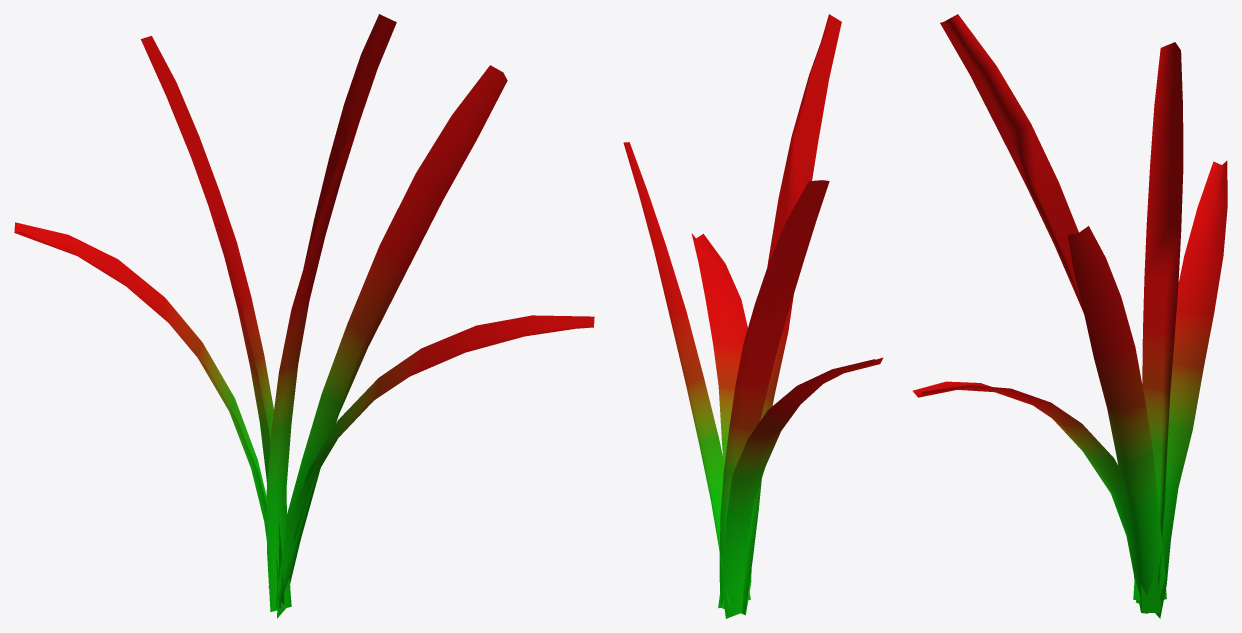
File: Var2_LOD0.fbx
3 renders of one model, left to right at view 1: azimuth 30°, elevation 25°; view 2: azimuth 150°, elevation 25°; view 3: azimuth 270°, elevation 25°, orthographic. The views are drawn at different scales.
Parts seen in each view (by area): view 1: _a417_Var2_LOD0; view 2: _a417_Var2_LOD0; view 3: _a417_Var2_LOD0.
Boxes of the visible parts, x1,y1,x2,y2 form: _a417_Var2_LOD0: [14, 14, 594, 618]; _a417_Var2_LOD0: [623, 14, 883, 618]; _a417_Var2_LOD0: [912, 14, 1227, 618].
Size of the model in its own units: 43.96 by 69.93 by 33.43.
